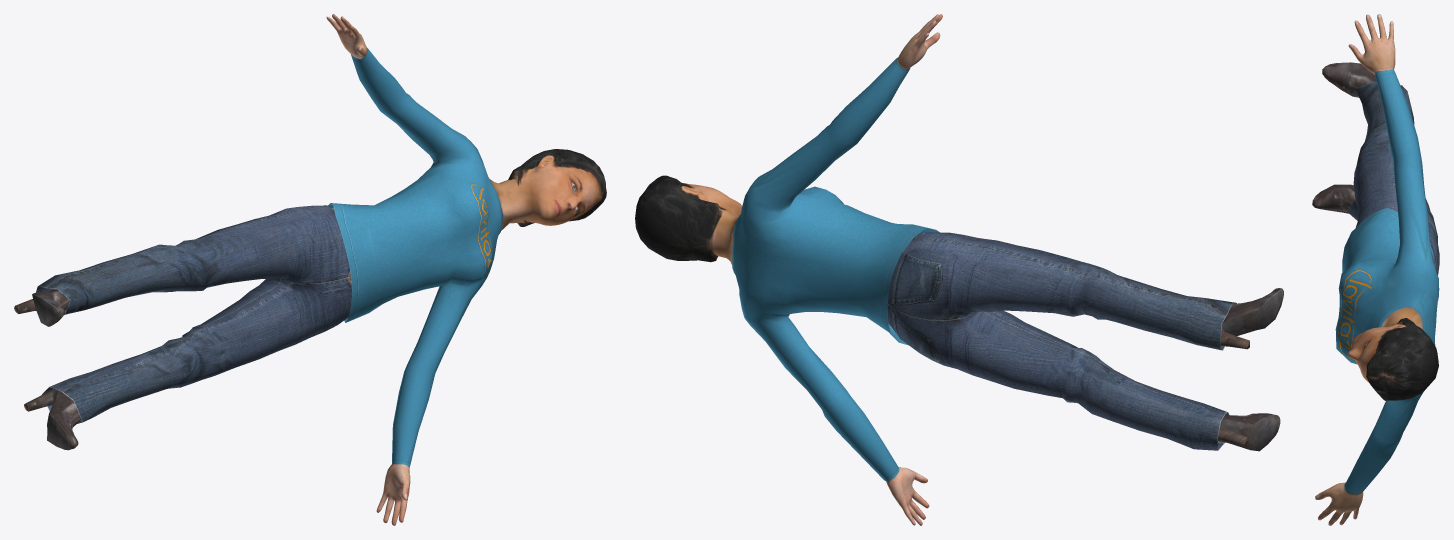
Rendered from fem1.fbx.
The picture shows the model from 3 angles, left to right: view 1: azimuth 30°, elevation 25°; view 2: azimuth 150°, elevation 25°; view 3: azimuth 270°, elevation 25°; orthographic projection. The views are drawn at different scales.
Visible parts, largest first — view 1: wom_1006; view 2: wom_1006; view 3: wom_1006.
Part boxes in pixels (x1,y1,x2,y2): wom_1006: (14,14,606,525); wom_1006: (635,14,1283,525); wom_1006: (1312,14,1439,525).
Bounding box in the file's own units: 0.0138 × 0.0115 × 0.00267.
